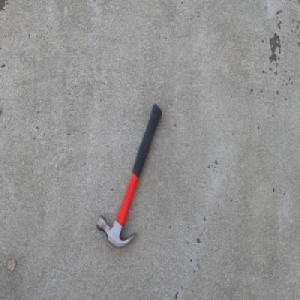Hammer: (95, 102, 162, 249)
